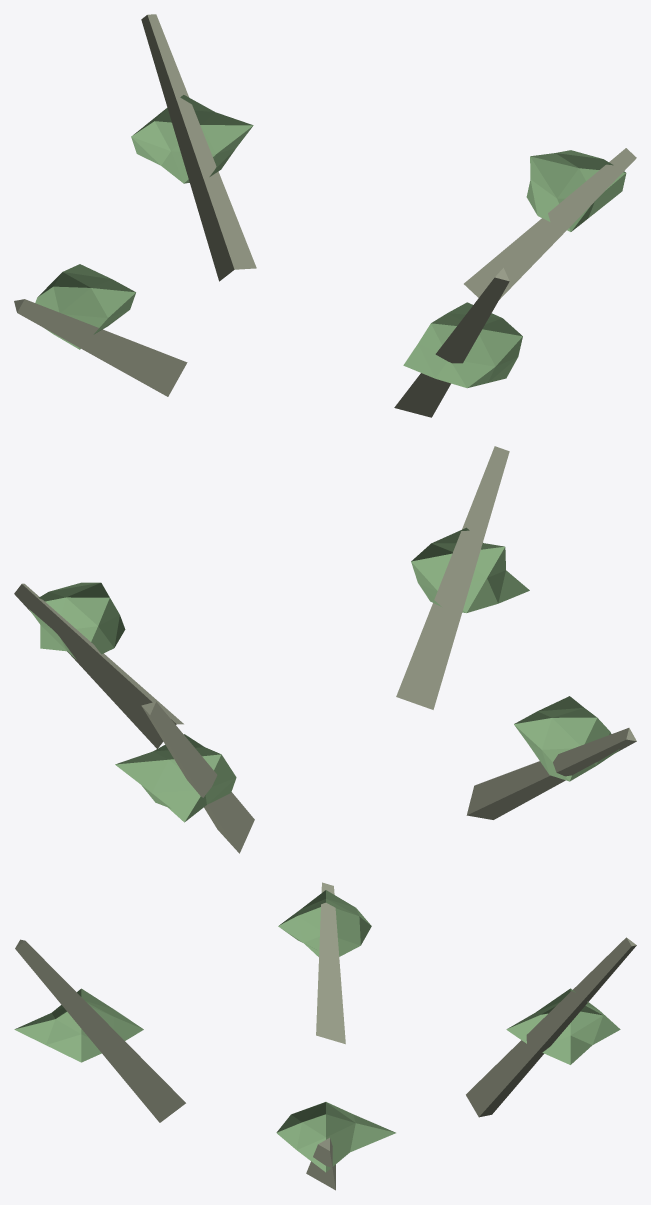
File: bramble_v05.glb
3 views of the same model, one above another, from view 1: azimuth 30°, elevation 25°; view 2: azimuth 150°, elevation 25°; view 3: azimuth 270°, elevation 25° (orthographic). The views are drawn at different scales.
Visible parts, largest first — view 1: lod0; view 2: lod0; view 3: lod0.
Part boxes in pixels (x1=…): lod0: x1=14, y1=14, x2=636, y2=417; lod0: x1=14, y1=446, x2=636, y2=853; lod0: x1=14, y1=882, x2=636, y2=1190.
Size of what is drawn, in the model's own units: 0.7777 by 0.2535 by 0.7825.
